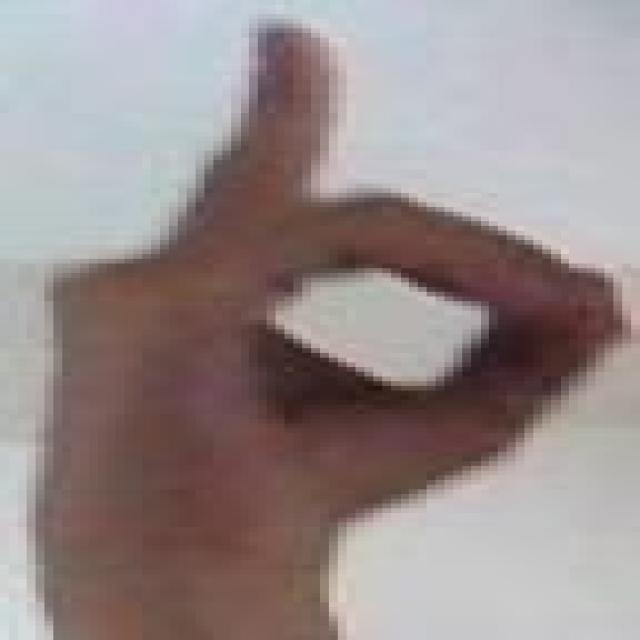D1: (10, 4, 640, 559)
